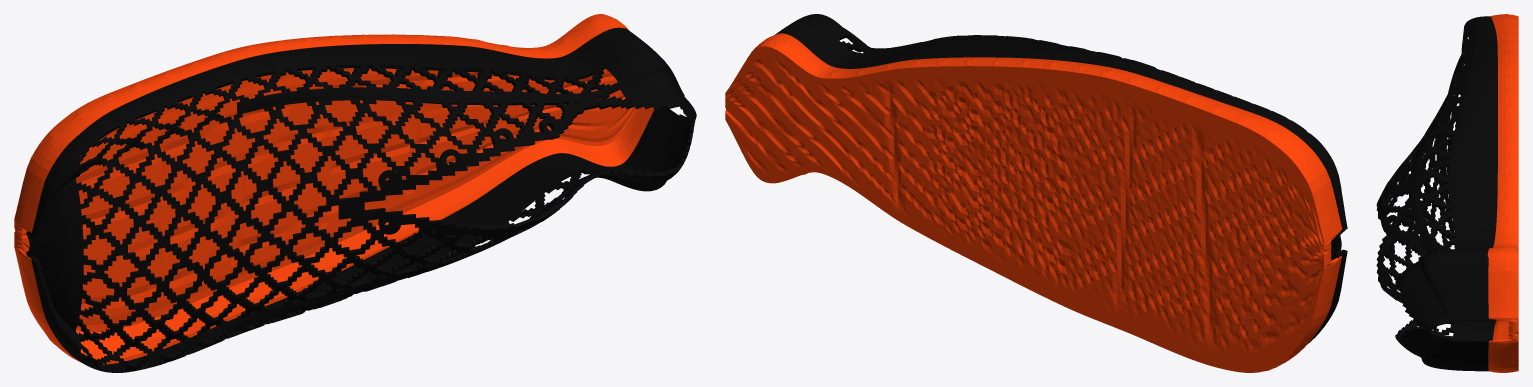
Rendered from right_full_printed_barefoot_shoe.obj.
3 views of the same model, side by side, from view 1: azimuth 30°, elevation 25°; view 2: azimuth 150°, elevation 25°; view 3: azimuth 270°, elevation 25° (orthographic). The views are drawn at different scales.
Visible parts, largest first — view 1: right_printed_tpu_lattice_upper, right_tpu_outsole; view 2: right_tpu_outsole, right_printed_tpu_lattice_upper; view 3: right_printed_tpu_lattice_upper, right_tpu_outsole, right_eyelet_08, right_eyelet_03.
Boxes of the visible parts, <box> form: right_printed_tpu_lattice_upper: <box>26,27,696,372</box>; right_tpu_outsole: <box>14,14,654,364</box>; right_tpu_outsole: <box>725,33,1342,372</box>; right_printed_tpu_lattice_upper: <box>775,14,1347,344</box>; right_printed_tpu_lattice_upper: <box>1376,16,1497,371</box>; right_tpu_outsole: <box>1487,14,1518,372</box>; right_eyelet_08: <box>1382,215,1397,232</box>; right_eyelet_03: <box>1384,240,1394,258</box>.
Bounding box in the file's own units: 279 × 118 × 66.05.
